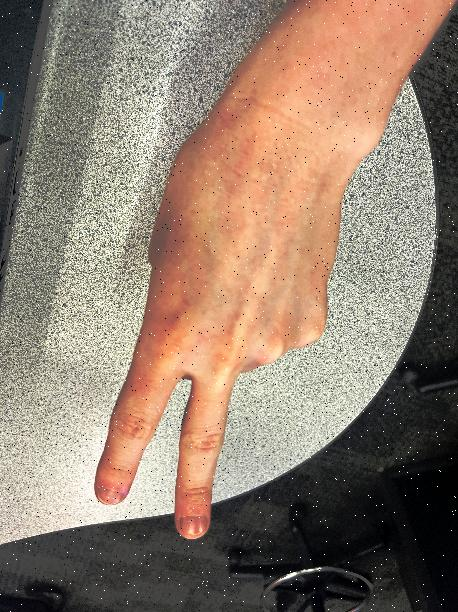Scissors: (70, 77, 380, 558)
